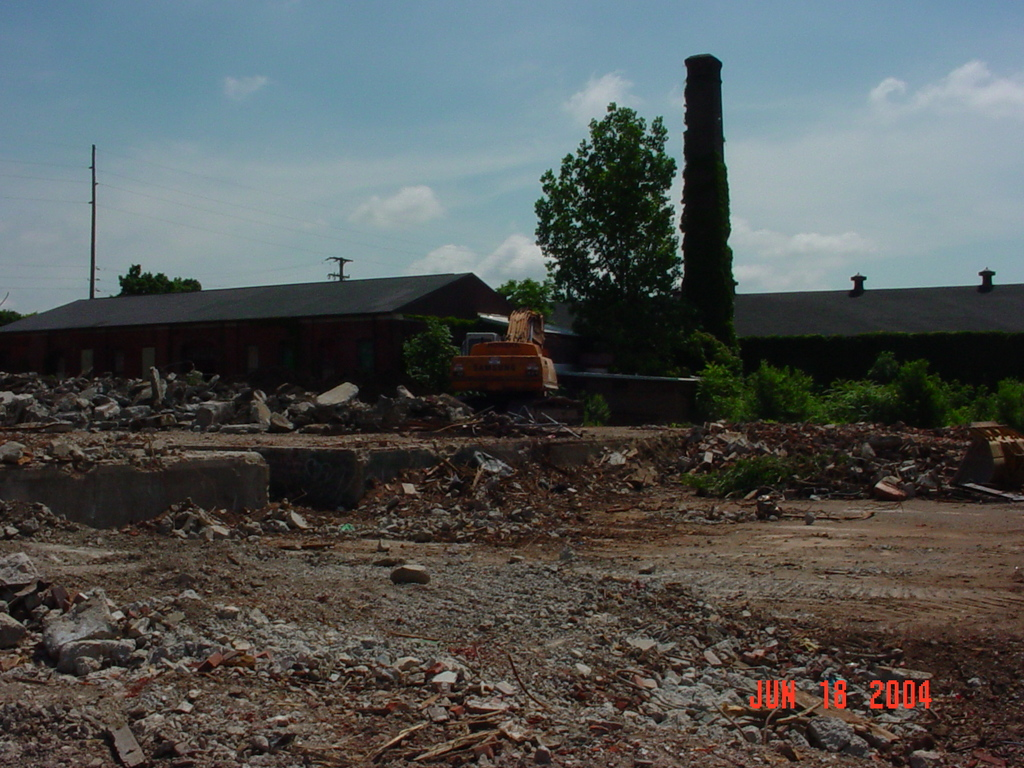Tree: (537, 87, 702, 346), (113, 262, 199, 298)
